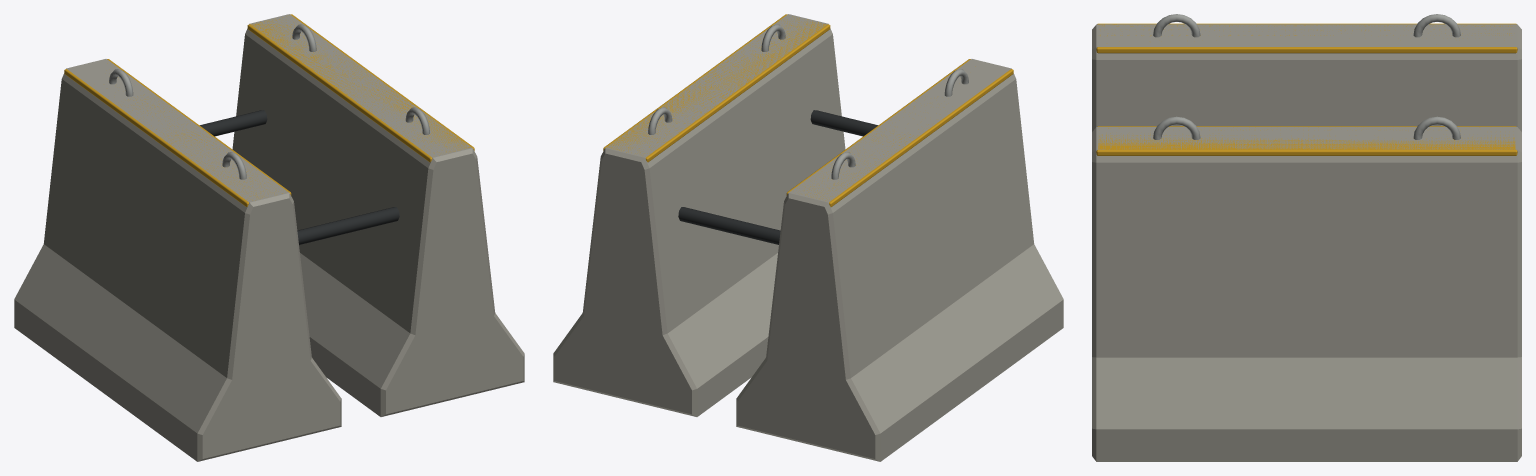
File: barricade.glb
3 views of the same model, side by side, from view 1: azimuth 30°, elevation 25°; view 2: azimuth 150°, elevation 25°; view 3: azimuth 270°, elevation 25° (orthographic). The views are drawn at different scales.
Parts seen in each view (by area): view 1: concrete, hazard, steel-dark, steel; view 2: concrete, hazard, steel-dark, steel; view 3: concrete, hazard, steel.
Boxes of the visible parts, x1=… form: concrete: x1=14, y1=14, x2=524, y2=461; hazard: x1=64, y1=14, x2=474, y2=206; steel-dark: x1=200, y1=110, x2=399, y2=244; steel: x1=109, y1=24, x2=429, y2=179; concrete: x1=553, y1=14, x2=1063, y2=461; hazard: x1=603, y1=14, x2=1013, y2=206; steel-dark: x1=678, y1=110, x2=877, y2=244; steel: x1=648, y1=24, x2=968, y2=179; concrete: x1=1092, y1=24, x2=1521, y2=461; hazard: x1=1096, y1=23, x2=1517, y2=155; steel: x1=1153, y1=14, x2=1460, y2=139.
Bounding box in the file's own units: 2 × 1.55 × 1.98.
